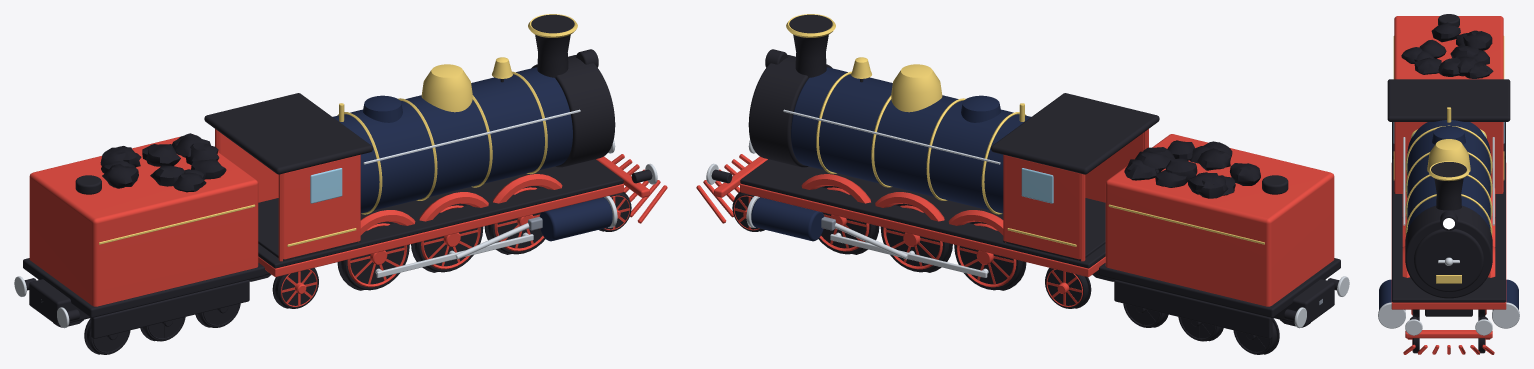
Rendered from locomotive.glb.
3 views of the same model, side by side, from view 1: azimuth 30°, elevation 25°; view 2: azimuth 150°, elevation 25°; view 3: azimuth 270°, elevation 25° (orthographic). The views are drawn at different scales.
Visible parts, largest first — view 1: locomotive.002, tw-10.005 (×3), drv-10.002, drv-11.002, trail-1.002, drv-12.002, pony-1.002; view 2: locomotive.002, drv10.002, drv11.002, tw11.002 (×2), trail1.002, drv12.002, tw10.005, pony1.002; view 3: locomotive.002, pony1.002, pony-1.002.
Part boxes in pixels (x1,y1,x2,y2): locomotive.002: (14,14,667,338); tw-10.005 (×3): (84,303,240,354); drv-10.002: (337,221,409,290); drv-11.002: (411,203,483,272); trail-1.002: (272,268,318,308); drv-12.002: (484,186,545,254); pony-1.002: (599,192,631,231); locomotive.002: (696,14,1349,338); drv10.002: (954,221,1026,290); drv11.002: (880,203,952,272); tw11.002 (×2): (1178,317,1279,354); trail1.002: (1045,268,1091,308); drv12.002: (818,186,879,254); tw10.005: (1123,303,1168,327); pony1.002: (732,192,764,231); locomotive.002: (1378,14,1519,354); pony1.002: (1478,317,1490,354); pony-1.002: (1407,317,1419,354).
Bounding box in the file's own units: 13.18 × 4.2 × 3.24.
Materials: 1 (1 with a texture image).
